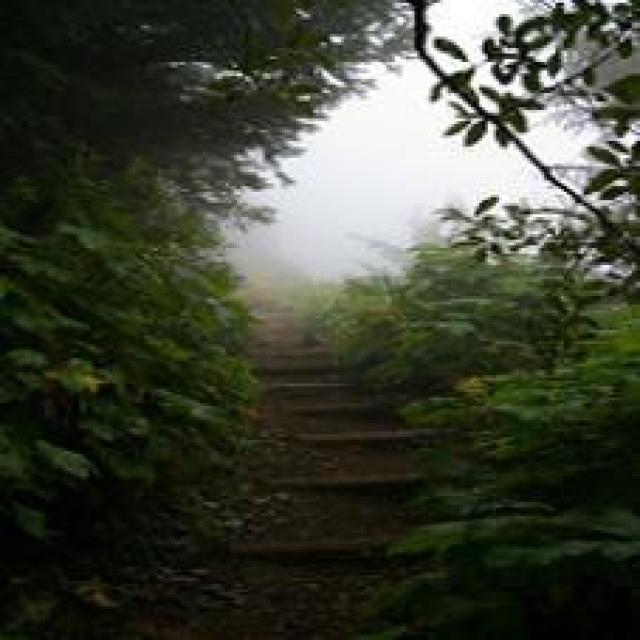upstair: (232, 314, 421, 554)
